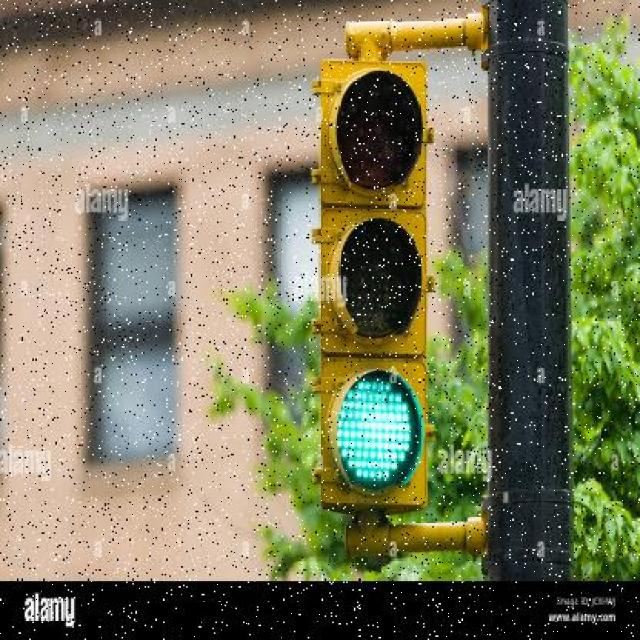green-light: (316, 48, 438, 521)
